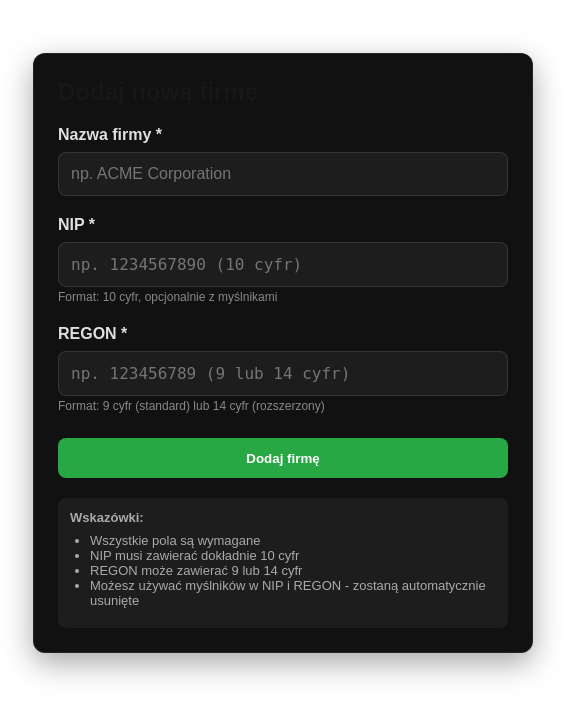
it: AddCompanyForm › Walidacja formularza › powinien pokazać błąd gdy nazwa firmy jest pusta
Click the button "Dodaj firmę": (283, 458) x1=58 y1=438 x2=508 y2=478
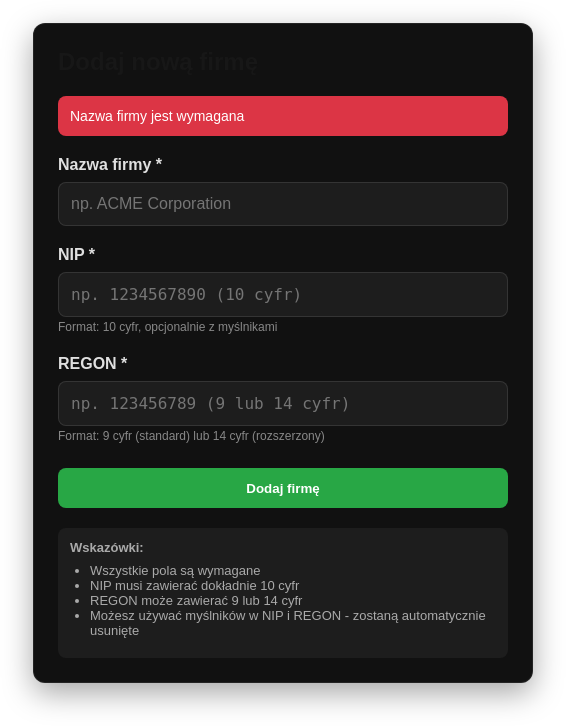
Expected: the text "Nazwa firmy jest wymagana" is shown, x1=58 y1=96 x2=508 y2=136
